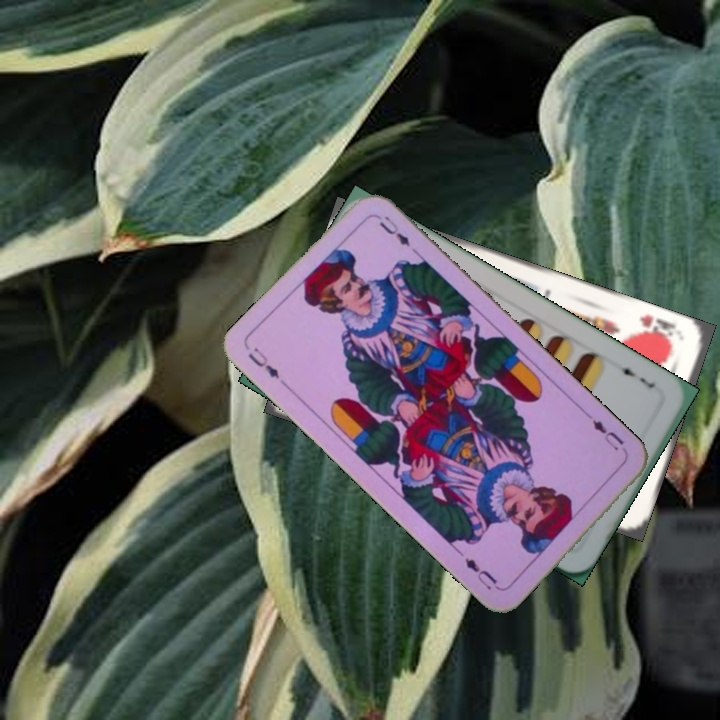E7: (613, 360, 657, 392)
EU: (583, 412, 630, 457), (243, 342, 282, 382)
HK: (632, 310, 679, 347)
